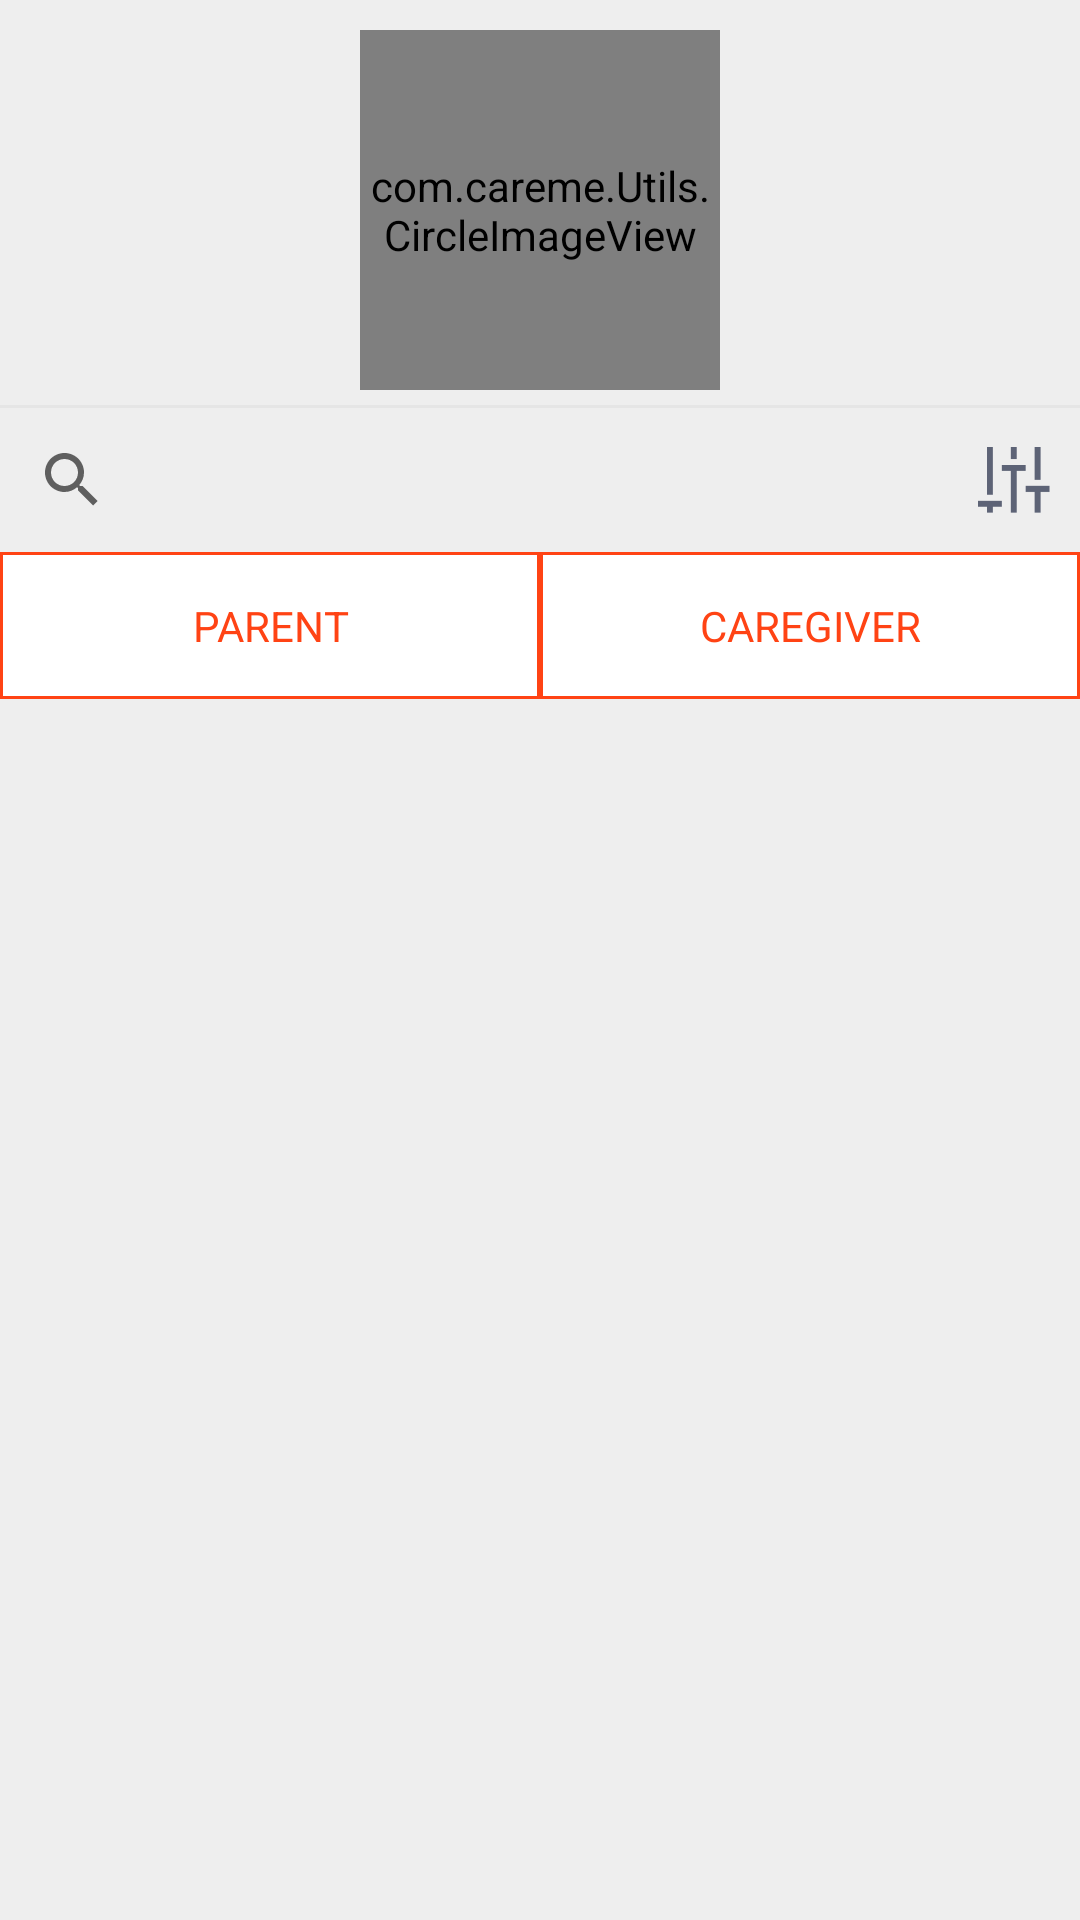

Where to tap for icons on this 1080 x 1920 app screen, as [x,y]:
filter: [1014,480]
